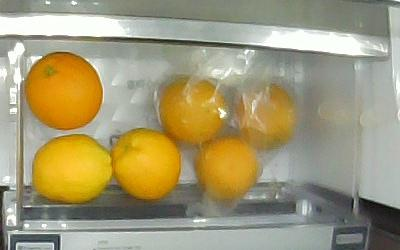orange: (26, 52, 103, 130), (33, 134, 111, 203), (111, 129, 180, 199)
orange_vinyl: (160, 76, 227, 145), (194, 138, 256, 201), (236, 84, 294, 147)
